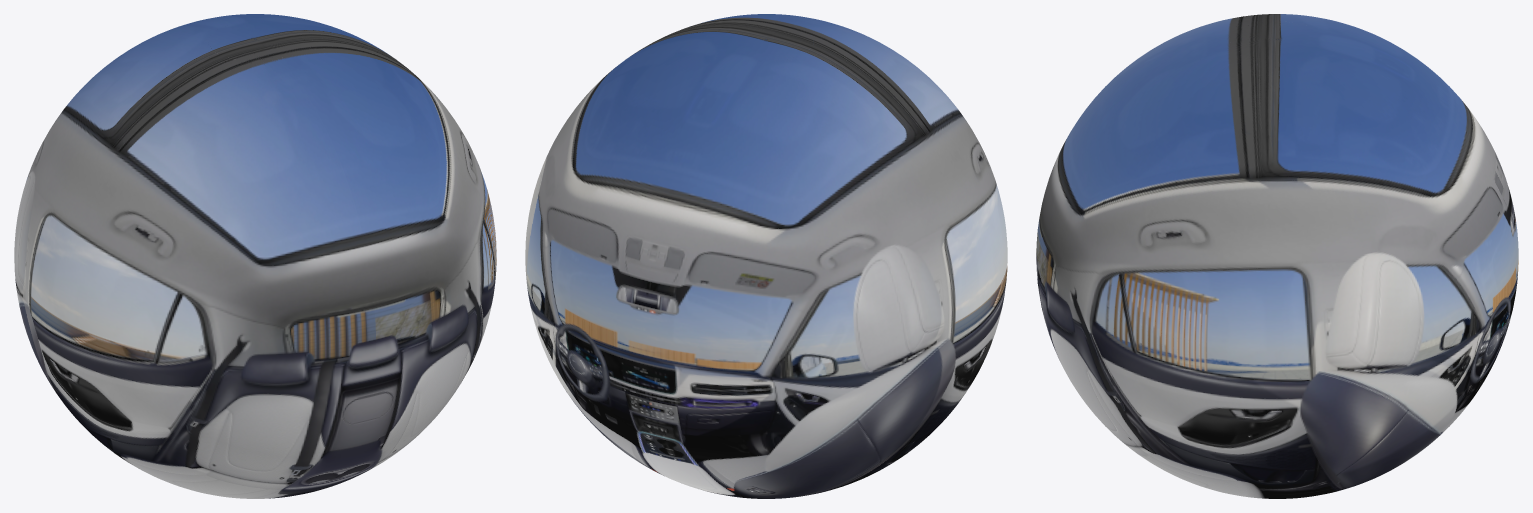
The model's file is panoday.glb.
3 renders of one model, left to right at view 1: azimuth 30°, elevation 25°; view 2: azimuth 150°, elevation 25°; view 3: azimuth 270°, elevation 25°, orthographic.
Visible parts, largest first — view 1: Sphere; view 2: Sphere; view 3: Sphere.
Boxes of the visible parts, x1,y1,x2,y2 form: Sphere: [14, 14, 496, 498]; Sphere: [525, 14, 1007, 498]; Sphere: [1036, 14, 1518, 498].
Bounding box in the file's own units: 430 × 427 × 430.
Materials: 1 (1 with a texture image).
